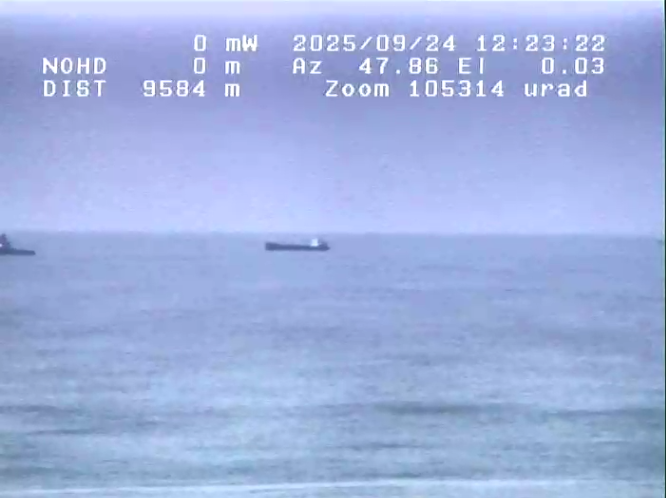OFFSHORE_SUPPLY_VESSEL: (1, 231, 59, 264)
TANKER: (244, 219, 352, 264)
